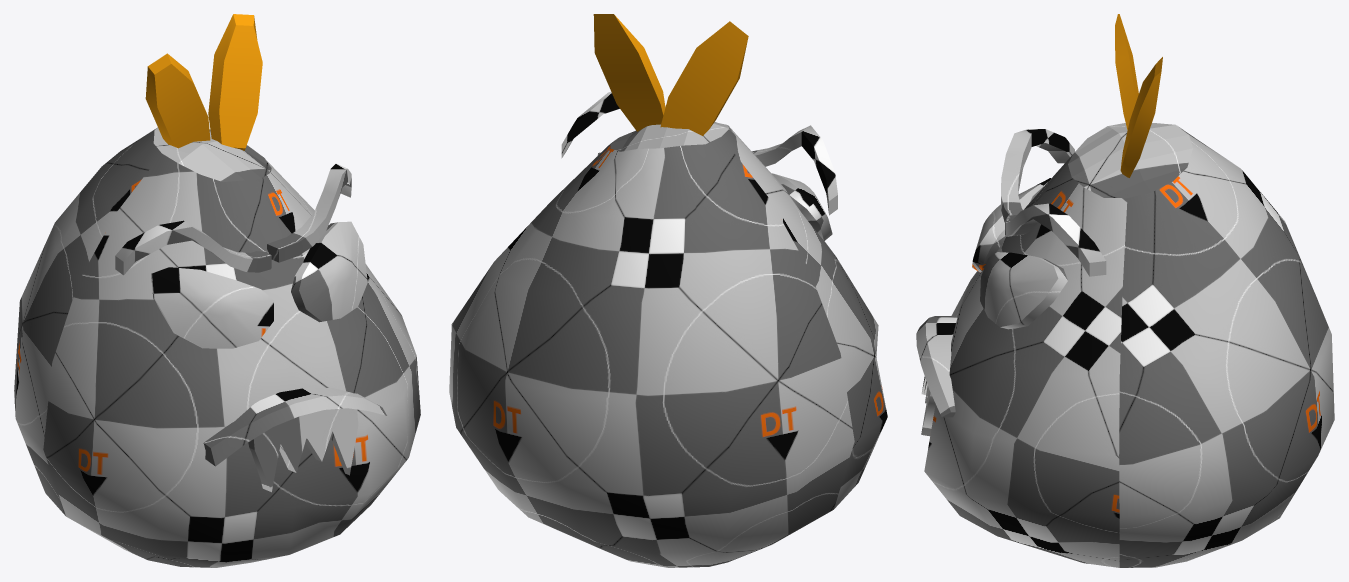
Rendered from sac-poubelle.FBX.
3 views of the same model, side by side, from view 1: azimuth 30°, elevation 25°; view 2: azimuth 150°, elevation 25°; view 3: azimuth 270°, elevation 25° (orthographic). The views are drawn at different scales.
Visible parts, largest first — view 1: Sac1, Fil1, Fil2; view 2: Sac1, Fil2, Fil1; view 3: Sac1, Fil1, Fil2.
Part boxes in pixels (x1,y1,x2,y2): Sac1: [14, 127, 420, 567]; Fil1: [208, 14, 262, 150]; Fil2: [145, 53, 210, 148]; Sac1: [449, 91, 887, 567]; Fil2: [660, 21, 748, 135]; Fil1: [593, 14, 665, 131]; Sac1: [916, 123, 1334, 567]; Fil1: [1120, 57, 1162, 177]; Fil2: [1115, 14, 1138, 129].
Bounding box in the file's own units: 50.03 × 66.38 × 49.89.
2 materials, 1 textured.
